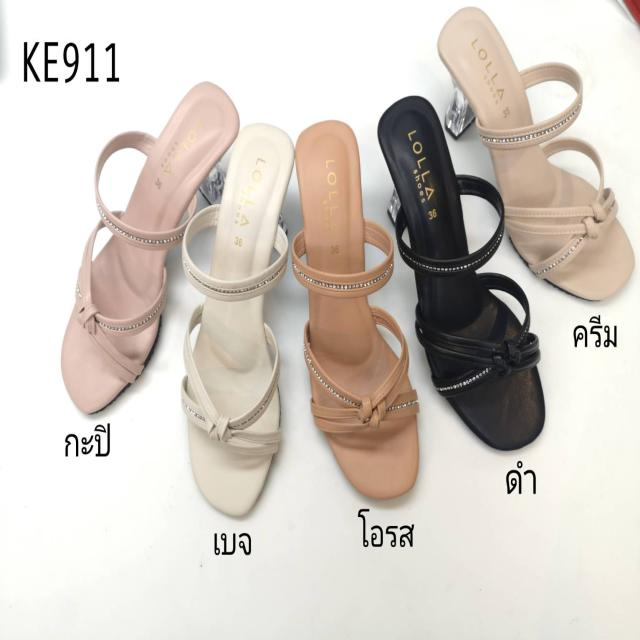bej: (187, 126, 293, 514)
black: (379, 102, 545, 447)
kapi: (65, 86, 237, 396)
orot: (440, 8, 632, 302), (297, 129, 416, 489)
